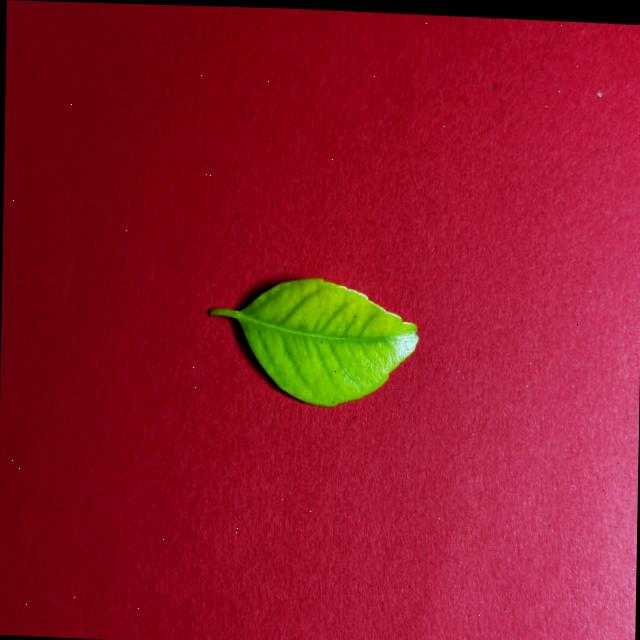greening: (208, 278, 416, 405)
